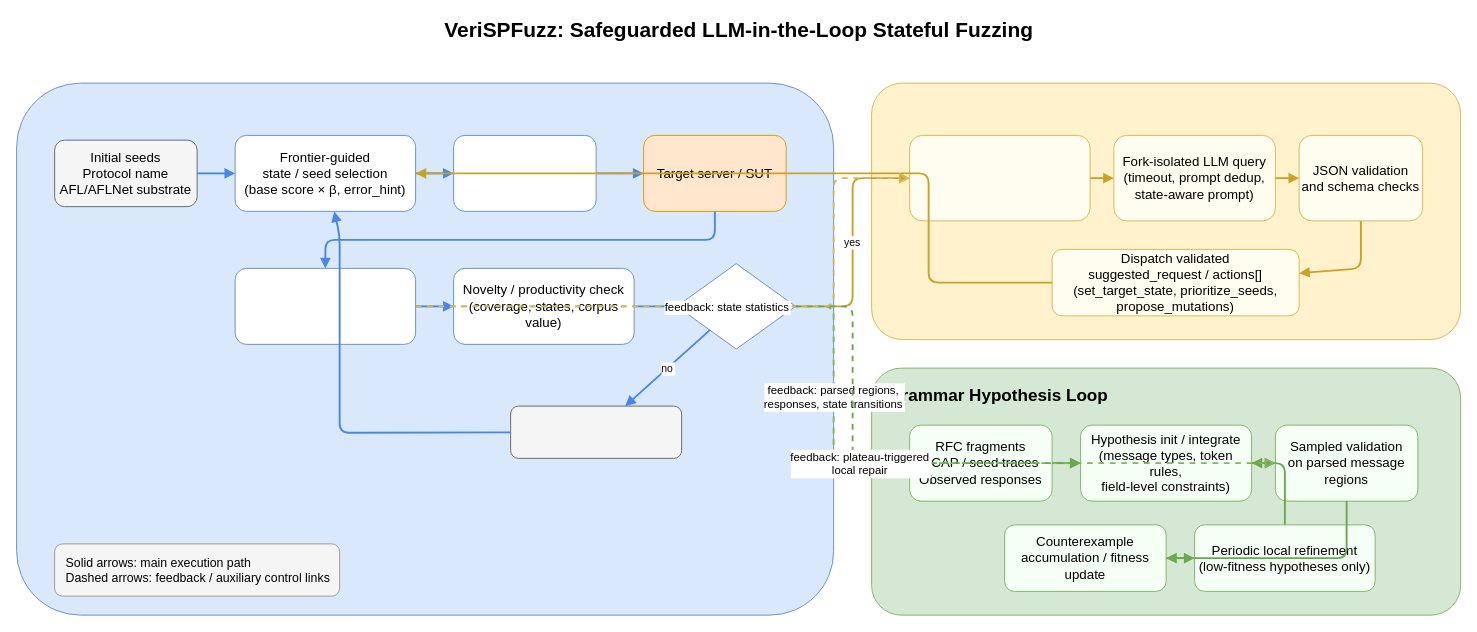
Image size: 1477x632. Some labels were removed from this diagram. The box of each missing label's shape, as (x1, y1, x2, y2) in pixels:
Build state context JSON (nodes, edges, growth rate, worst states, seed ids): (909, 134, 1090, 221)
Coverage + IPSM tracking (states, edges, responses): (234, 267, 416, 344)
Fuzz Execution Loop: (16, 82, 834, 615)
LLM Assistance (plateau only): (871, 82, 1461, 340)
Mutation / replay / seed execution: (453, 134, 596, 211)
No plateau → continue fuzzing: (510, 405, 682, 458)
Plateau detection (adaptive τ from edge-growth rate): (676, 263, 796, 349)
